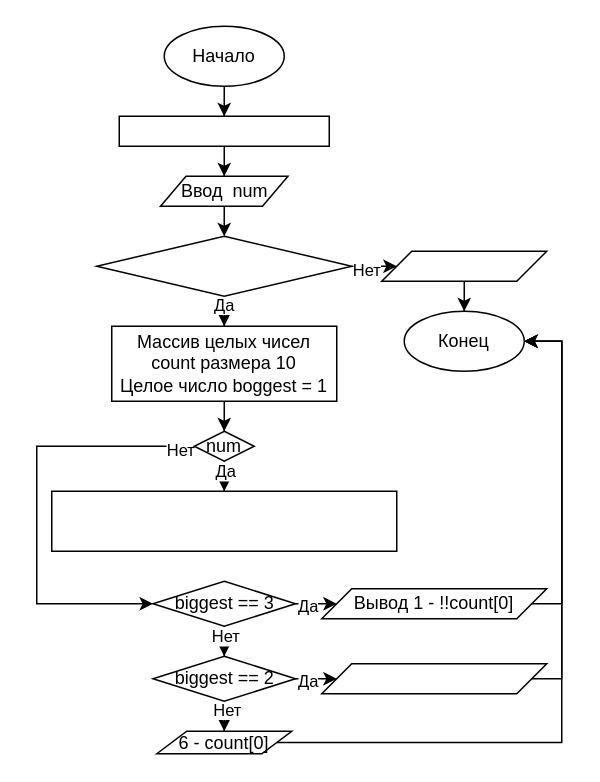
The diagram is 600 pixels wide and 782 high, and some of its shapes have lost their labels. The shapes that lost their labels are listed below. From the top down, each one's centre as x and y in pixels, then its label:
point (223, 130): Натуральное число num
point (223, 265): num < 100 || 1000 < num
point (463, 265): Вывод "Wrong"
point (223, 520): ++count[num % 10] biggest = max(count[num % 10], biggest) num /= 10
point (433, 678): Вывод 3 - count[0]
